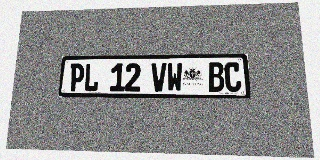1: (110, 63, 125, 92)
2: (125, 63, 141, 92)
B: (208, 62, 225, 92)
C: (224, 62, 242, 92)
L: (83, 63, 99, 91)
P: (69, 63, 85, 91)
V: (151, 63, 166, 92)
W: (167, 63, 182, 92)
